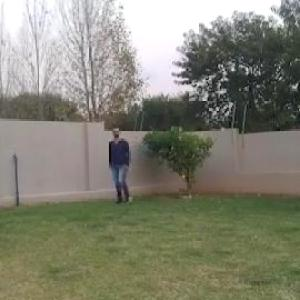follow: (111, 129, 130, 202)
